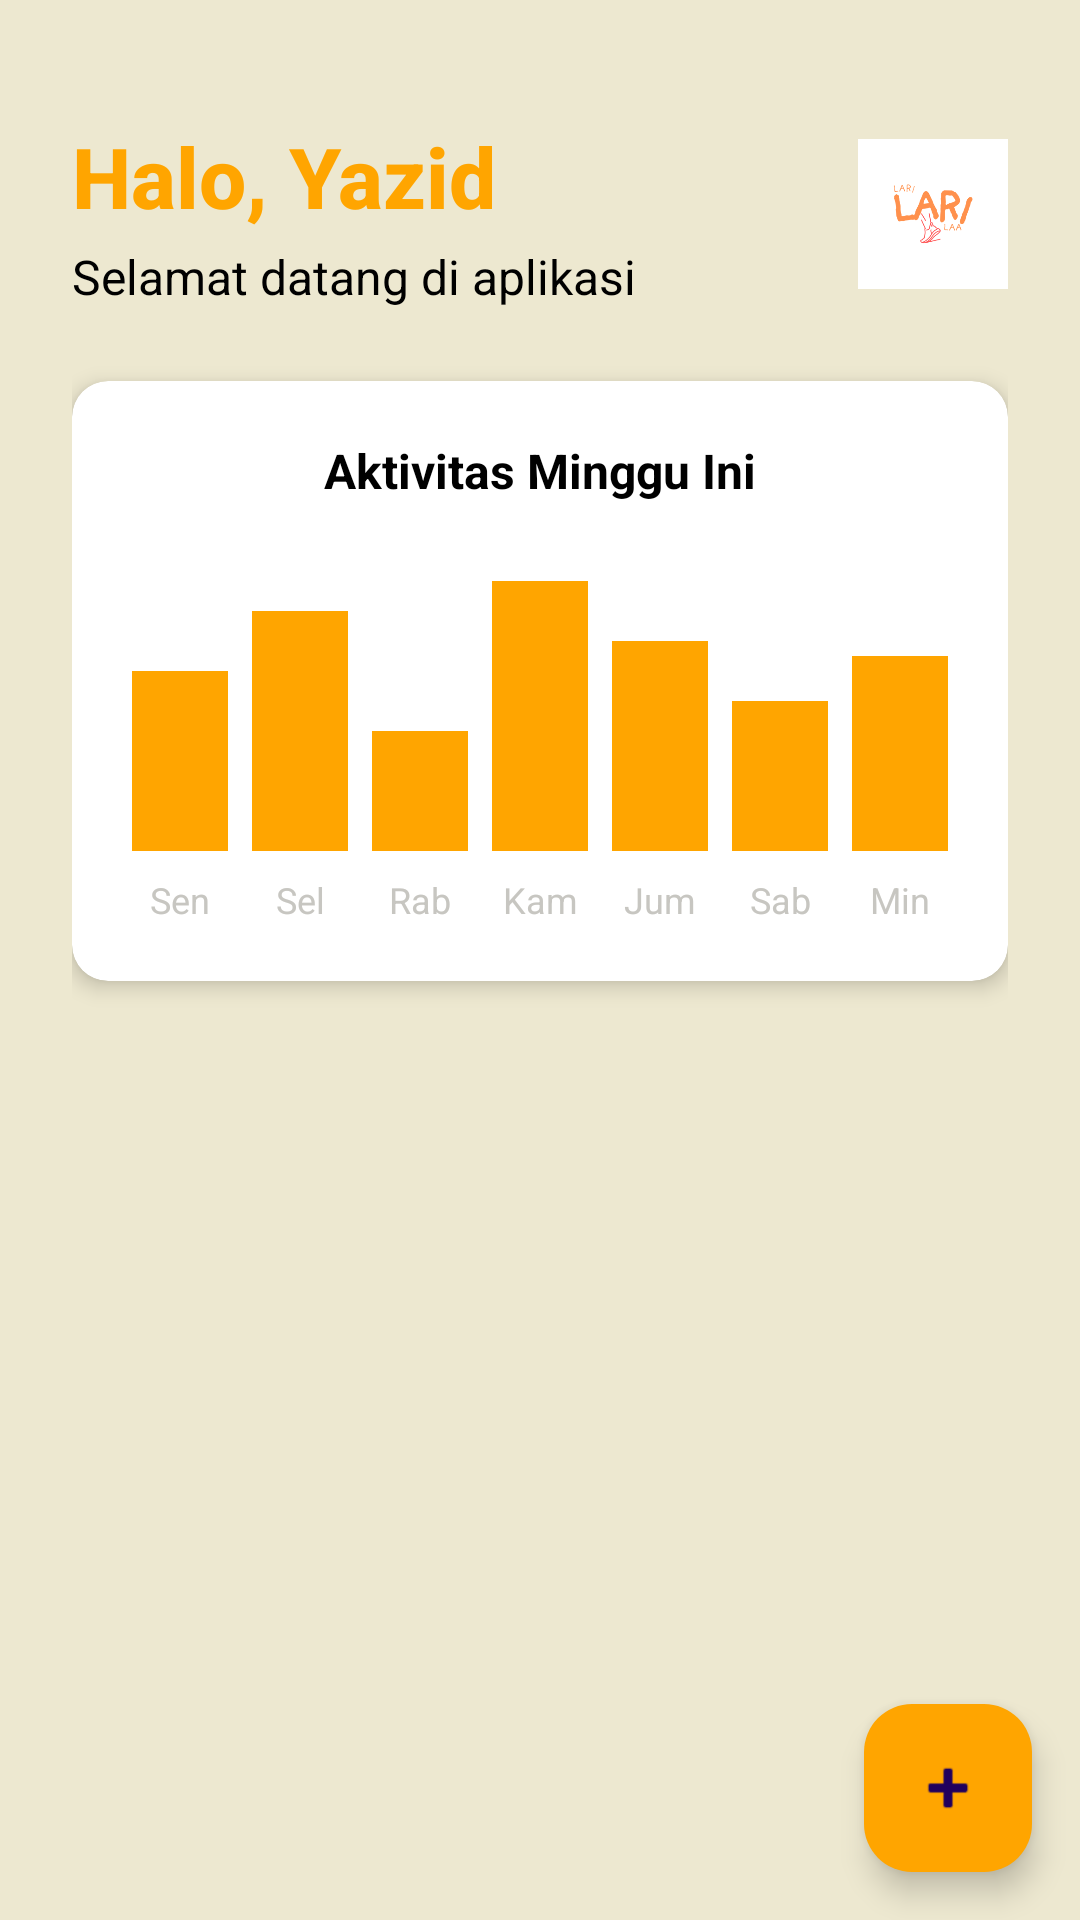

Point at icon controls on the screen. Image size 1080x1920, points as [x,y].
Tambah aktivitas: [948,1788]
